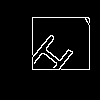H: (25, 25, 82, 83)
